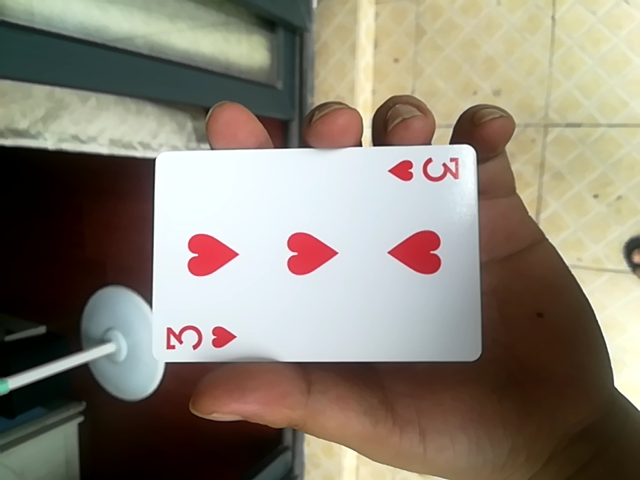hx 3: (149, 142, 483, 366)
